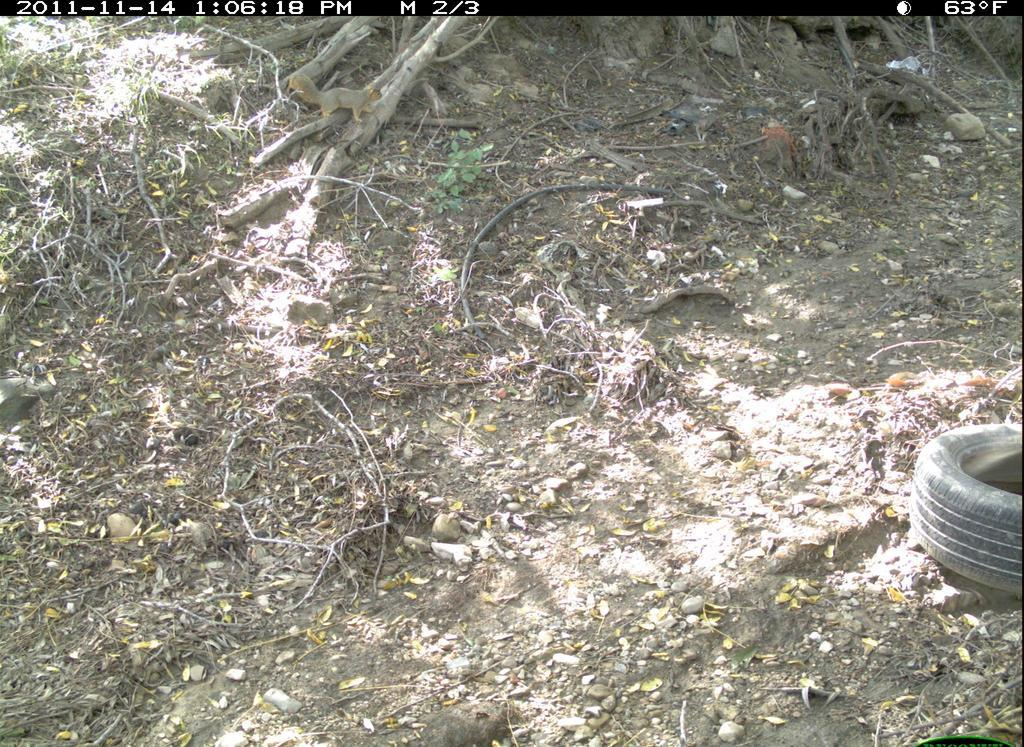squirrel: (287, 67, 396, 134)
